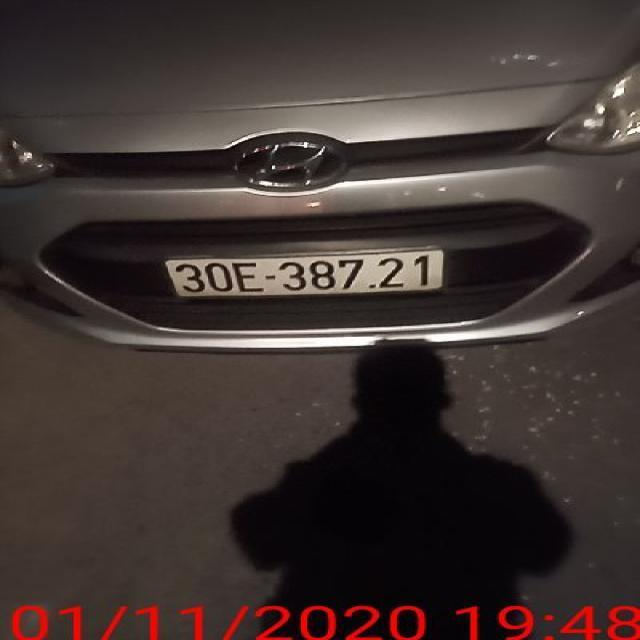bien_so_oto: (158, 246, 451, 304)
